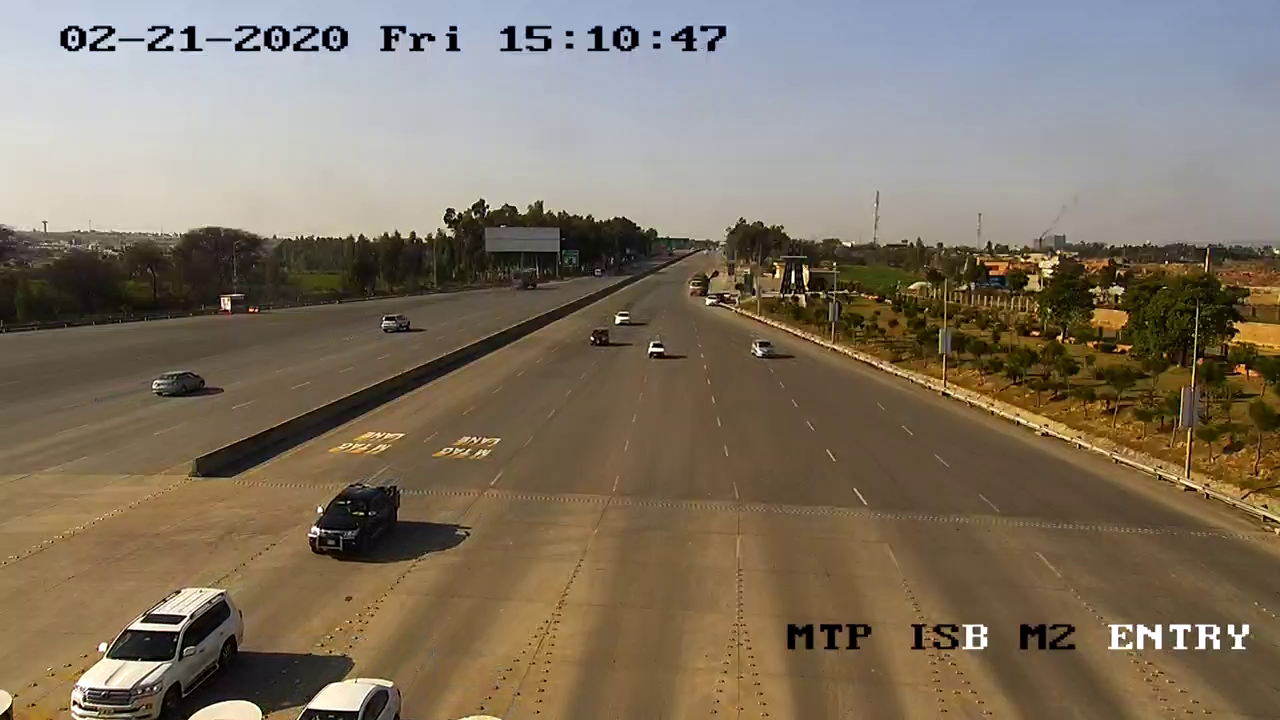f1: (72, 576, 251, 716), (295, 477, 413, 562)
